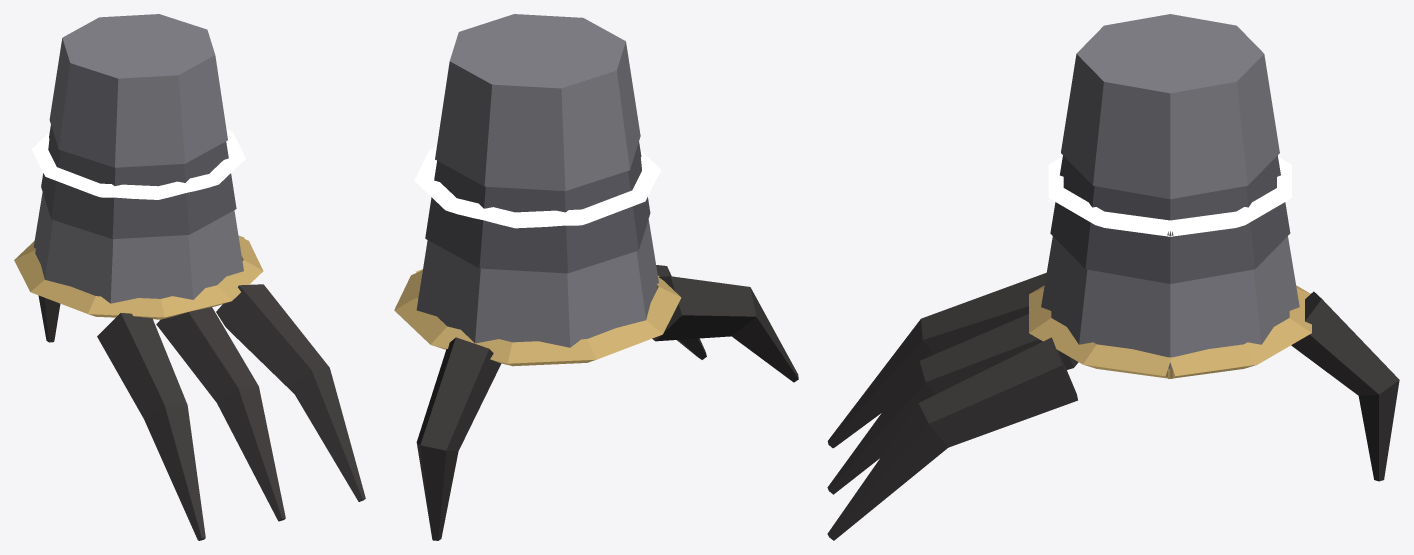
Rendered from talon-grip.glb.
3 renders of one model, left to right at view 1: azimuth 30°, elevation 25°; view 2: azimuth 150°, elevation 25°; view 3: azimuth 270°, elevation 25°, orthographic. The views are drawn at different scales.
Parts seen in each view (by area): view 1: talon-grip; view 2: talon-grip; view 3: talon-grip.
Part boxes in pixels (x1,y1,x2,y2): talon-grip: (14,14,365,540); talon-grip: (394,14,798,540); talon-grip: (827,14,1399,540).
Bounding box in the file's own units: 0.1137 × 0.1863 × 0.2193.
